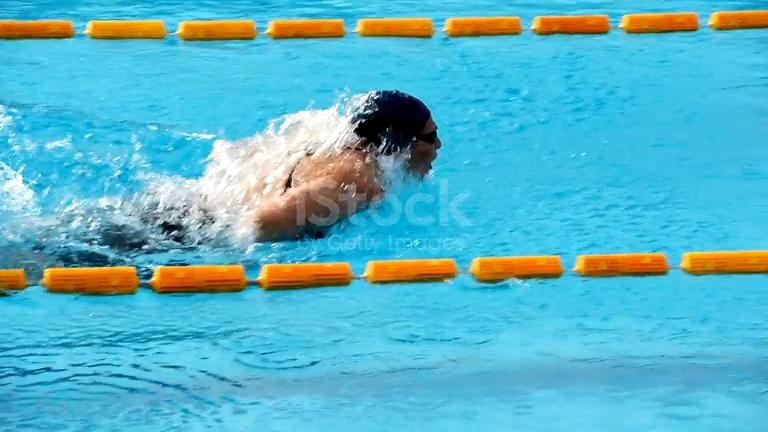Swimming: (4, 86, 444, 268)
